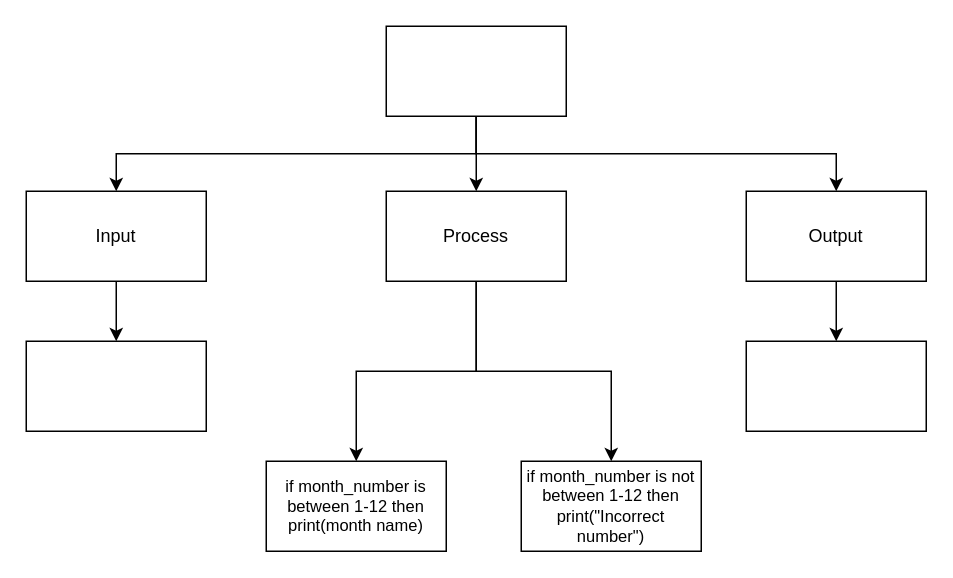
Image size: 953x578. Some labels were removed from this diagram. The shapes that lost their labels are listed below. From the top down, each one's centre as x and y in pixels, then its label:
At (x=475, y=70): "Name of the month".
At (x=115, y=385): "Get month_number".
At (x=835, y=385): "Show answer".
